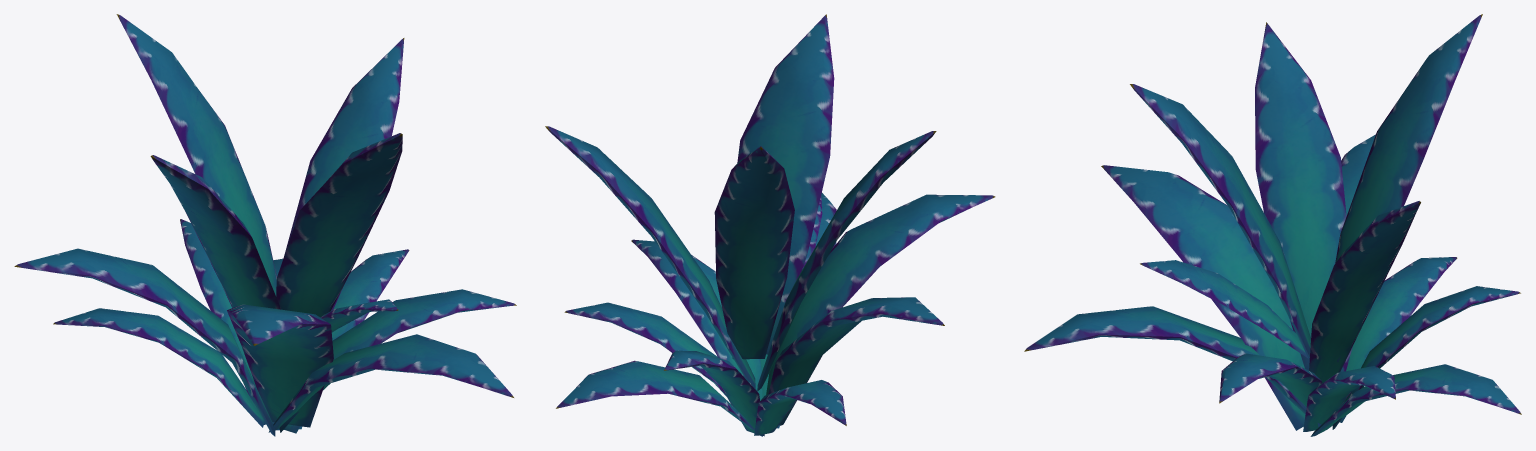
The model's file is DE_Cactus_09.fbx.
The picture shows the model from 3 angles, left to right: view 1: azimuth 30°, elevation 25°; view 2: azimuth 150°, elevation 25°; view 3: azimuth 270°, elevation 25°; orthographic projection. The views are drawn at different scales.
Parts seen in each view (by area): view 1: DE_Cactus_09; view 2: DE_Cactus_09; view 3: DE_Cactus_09.
Boxes of the visible parts, x1,y1,x2,y2 form: DE_Cactus_09: (14,14,516,436); DE_Cactus_09: (545,14,995,436); DE_Cactus_09: (1024,14,1521,436).
Size of the model in its own units: 3.7 by 3.22 by 3.85.
